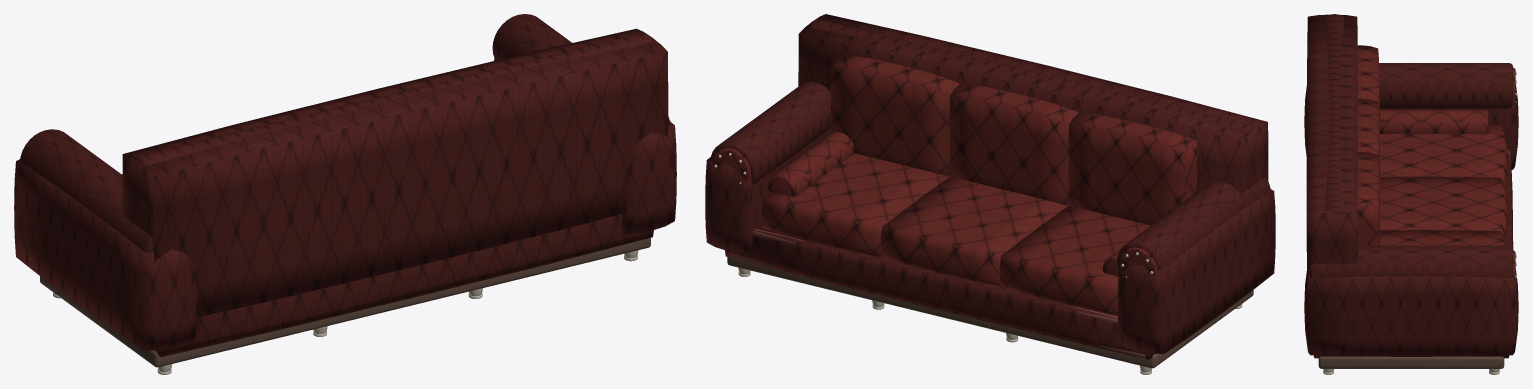
File: prop_leather_sofa.glb
3 views of the same model, side by side, from view 1: azimuth 30°, elevation 25°; view 2: azimuth 150°, elevation 25°; view 3: azimuth 270°, elevation 25° (orthographic). The views are drawn at different scales.
Parts seen in each view (by area): view 1: PlinthFrame; view 2: PlinthFrame; view 3: PlinthFrame.
Boxes of the visible parts, x1,y1,x2,y2 form: PlinthFrame: (14, 14, 676, 374); PlinthFrame: (705, 14, 1275, 374); PlinthFrame: (1304, 14, 1518, 374).
Size of the model in its own units: 2.46 by 0.96 by 1.09.
5 materials, 2 textured.
